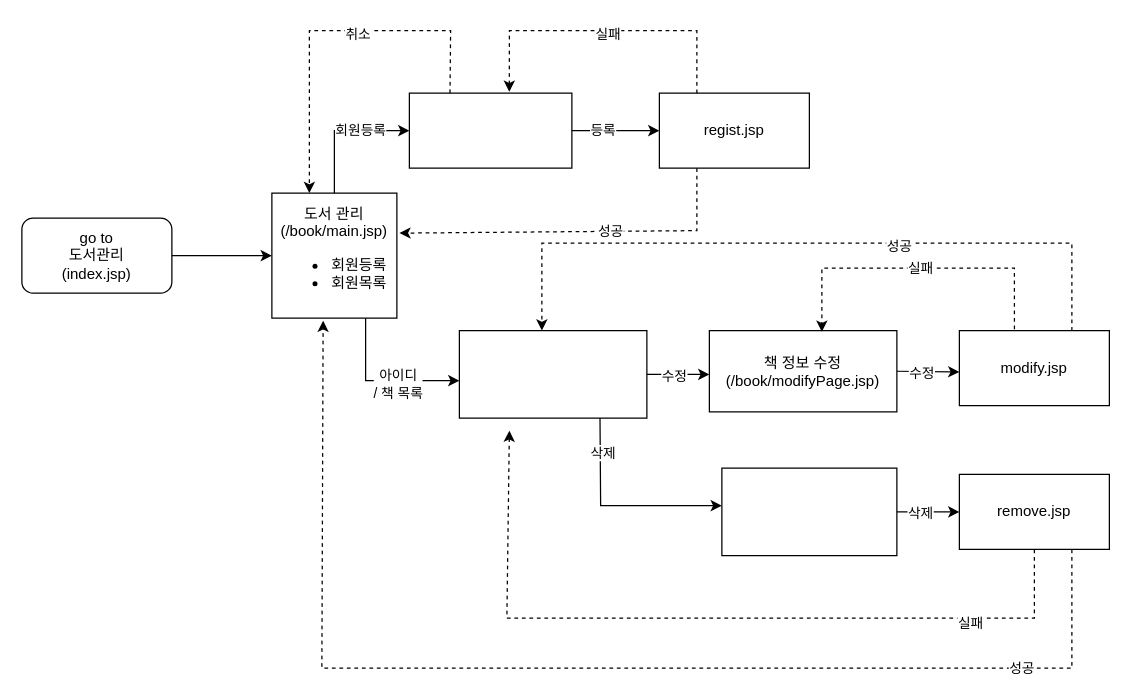
Image size: 1131x700. Some labels were removed from this diagram. Here are the shapes that lost their labels. From the top down, the box of each, then its label:
(408, 92, 572, 168): 회원 등록 (/book/registPage.jsp)
(458, 329, 647, 418): 상세정보 (/book/detailPage.jsp)
(721, 467, 897, 556): 회원 삭제 (/book/removePage.jsp)
